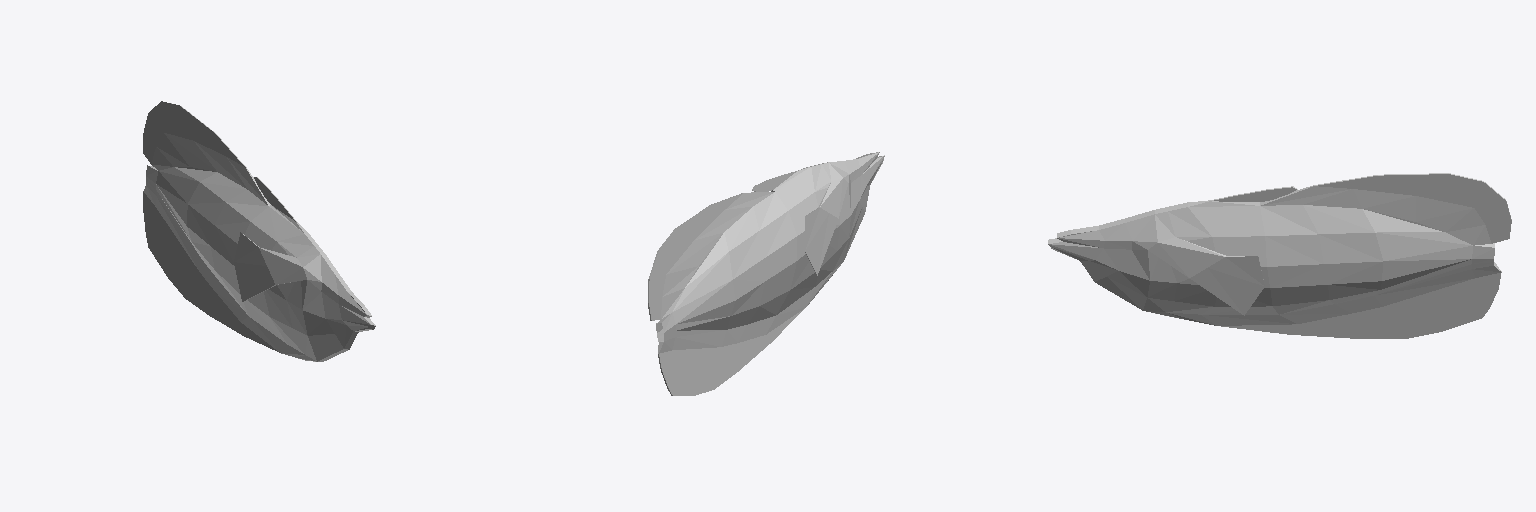
The model's file is cuerpo.obj.
3 renders of one model, left to right at view 1: azimuth 30°, elevation 25°; view 2: azimuth 150°, elevation 25°; view 3: azimuth 270°, elevation 25°, orthographic.
Visible parts, largest first — view 1: polySurface1 TropicalFish01; view 2: polySurface1 TropicalFish01; view 3: polySurface1 TropicalFish01.
Boxes of the visible parts, x1=… form: polySurface1 TropicalFish01: x1=143, y1=101, x2=375, y2=361; polySurface1 TropicalFish01: x1=648, y1=152, x2=884, y2=395; polySurface1 TropicalFish01: x1=1048, y1=173, x2=1511, y2=338.
Size of the model in its own units: 0.3857 by 1.01 by 2.45.